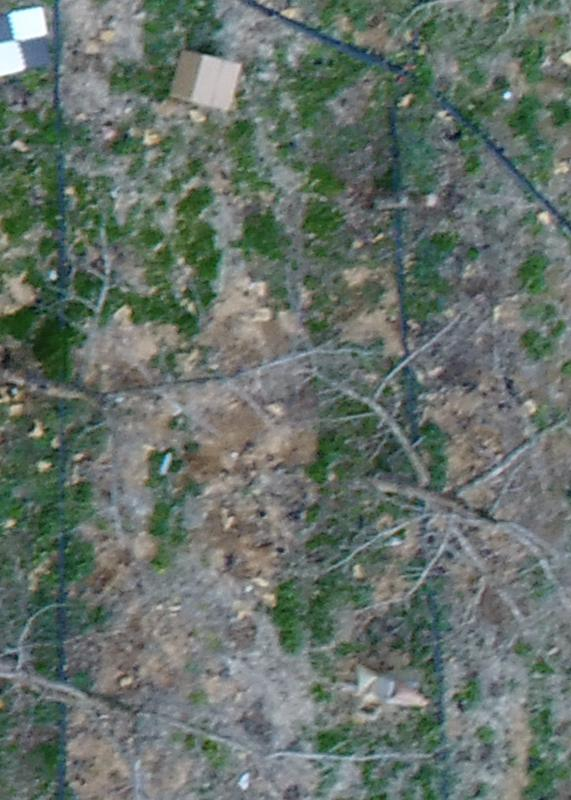apple: (250, 310, 561, 646), (10, 222, 373, 482), (10, 592, 445, 790)
